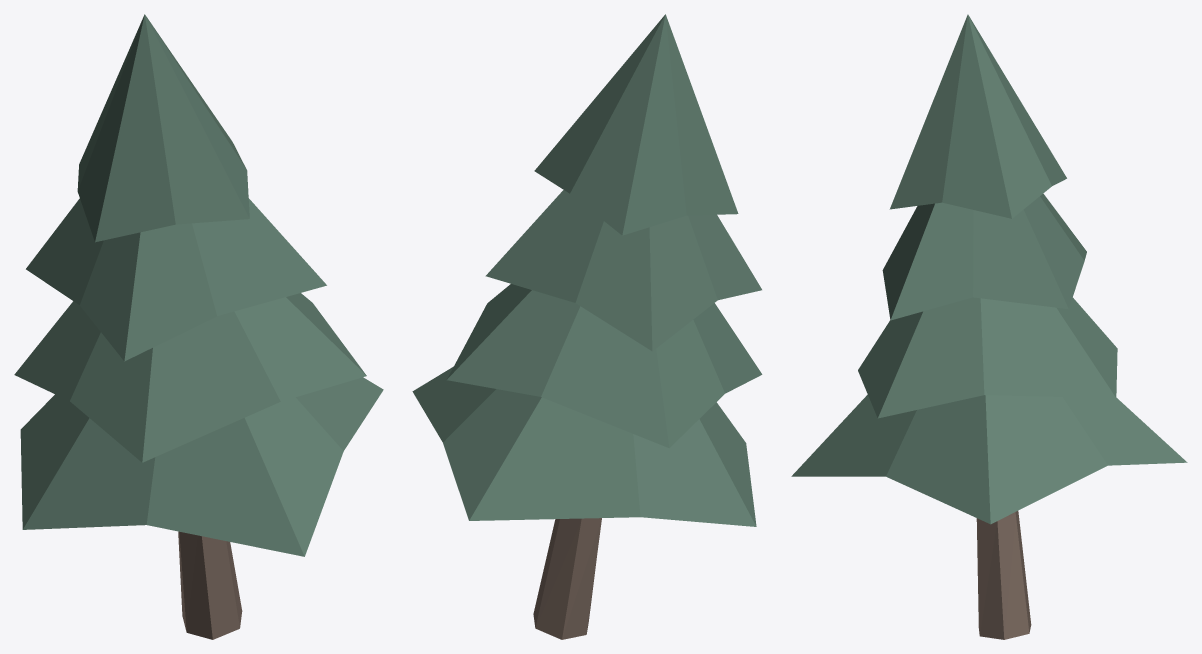
Rendered from Pine_Leaning.glb.
The picture shows the model from 3 angles, left to right: view 1: azimuth 30°, elevation 25°; view 2: azimuth 150°, elevation 25°; view 3: azimuth 270°, elevation 25°; orthographic projection. The views are drawn at different scales.
Visible parts, largest first — view 1: Foliage, Trunk; view 2: Foliage, Trunk; view 3: Foliage, Trunk.
Boxes of the visible parts, x1=… form: Foliage: x1=14, y1=14, x2=383, y2=556; Trunk: x1=178, y1=531, x2=242, y2=639; Foliage: x1=412, y1=14, x2=762, y2=526; Trunk: x1=533, y1=518, x2=601, y2=639; Foliage: x1=791, y1=14, x2=1187, y2=524; Trunk: x1=976, y1=511, x2=1031, y2=639.
Size of the model in its own units: 13.89 by 23.9 by 14.76.
